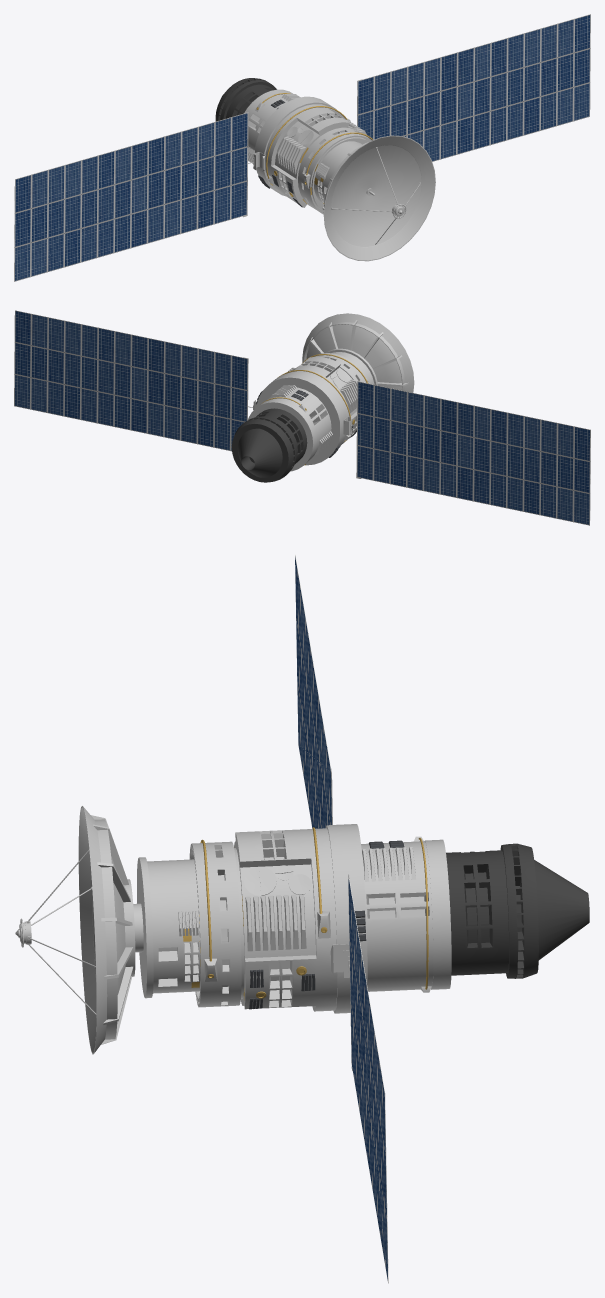
File: satellite_replace.glb
3 views of the same model, one above another, from view 1: azimuth 30°, elevation 25°; view 2: azimuth 150°, elevation 25°; view 3: azimuth 270°, elevation 25° (orthographic). The views are drawn at different scales.
Parts seen in each view (by area): view 1: Solar Panels_28, Disc_22, Body_2, Grill1_3; view 2: Solar Panels_28, Body_2, Disc_22, Disc.Back_23, Grill1_3, Grill3_16; view 3: Body_2, Solar Panels_28, Disc_22, Grill1_3, Disc.Back_23, Small Discs_6, Grill3_16.
Boxes of the visible parts, <box> form: Solar Panels_28: <box>14,14,590,281</box>; Disc_22: <box>323,135,435,261</box>; Body_2: <box>215,78,371,214</box>; Grill1_3: <box>277,119,368,174</box>; Solar Panels_28: <box>14,310,590,525</box>; Body_2: <box>231,348,377,482</box>; Disc_22: <box>302,313,414,392</box>; Disc.Back_23: <box>310,320,408,386</box>; Grill1_3: <box>288,367,357,413</box>; Grill3_16: <box>268,385,332,457</box>; Body_2: <box>137,824,589,1013</box>; Solar Panels_28: <box>295,554,388,1283</box>; Disc_22: <box>78,806,143,1054</box>; Grill1_3: <box>245,894,306,951</box>; Disc.Back_23: <box>91,815,133,1044</box>; Small Discs_6: <box>244,865,311,895</box>; Grill3_16: <box>362,847,416,881</box>.
Size of the model in its own units: 15.19 by 2.97 by 6.82.
5 materials, 1 textured.
